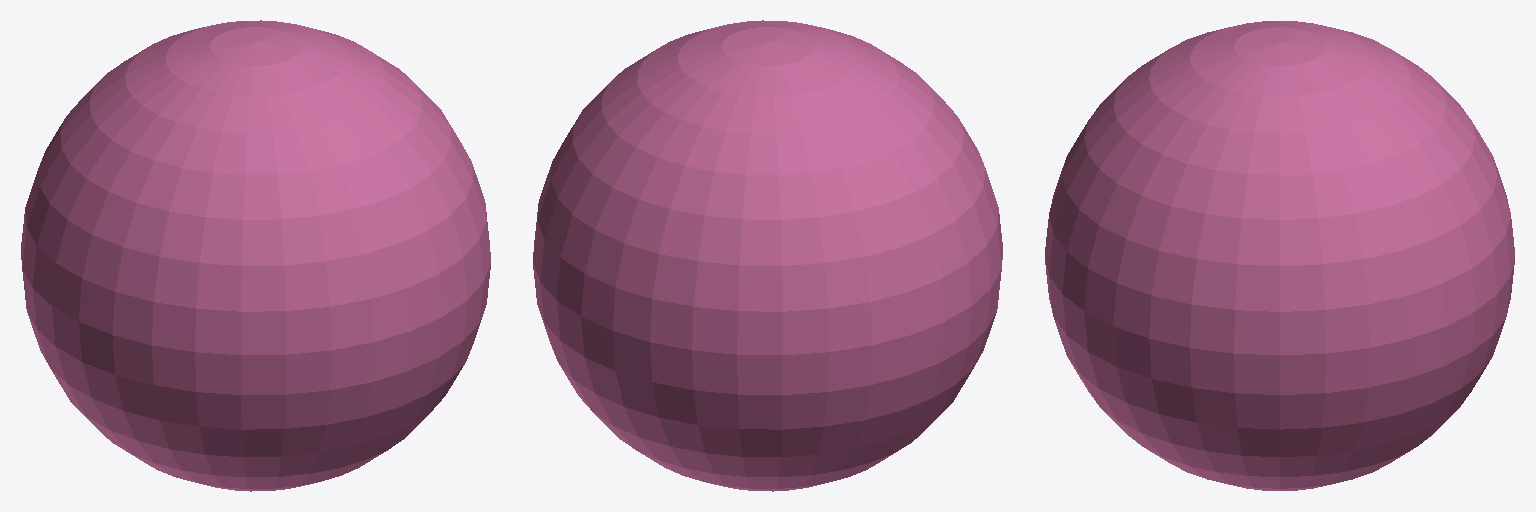
The robot description file, URDF, robot "indenter":
<robot name="indenter">

    <link name="base_link"/>
    <link name="translation_x"/>
    <link name="translation_y"/>
    <link name="translation_z"/>
    <link name="rotation_x"/>
    <link name="rotation_y"/>
    <joint name="x_joint" type="prismatic">
        <origin xyz="0 0 0" rpy="0 0 0"/>
        <parent link="base_link"/>
        <child link="translation_x"/>
        <axis xyz="1 0 0"/>
        <limit effort="12" lower="-1" upper="1" velocity="2.6100"/>
    </joint>

    <joint name="y_joint" type="prismatic">
        <origin xyz="0 0 0" rpy="0 0 0"/>
        <parent link="translation_x"/>
        <child link="translation_y"/>
        <axis xyz="0 1 0"/>
        <limit effort="12" lower="-1" upper="1" velocity="2.6100"/>
    </joint>

    <joint name="z_joint" type="prismatic">
        <origin xyz="0 0 0" rpy="0 0 0"/>
        <parent link="translation_y"/>
        <child link="translation_z"/>
        <axis xyz="0 0 1"/>
        <limit effort="12" lower="-1" upper="1" velocity="2.6100"/>
    </joint>
    <joint name="rx_joint" type="revolute">
        <origin xyz="0 0 0" rpy="0 0 0"/>
        <parent link="translation_z"/>
        <child link="rotation_x"/>
        <axis xyz="1 0 0"/>
        <limit effort="12" lower="-2.8973" upper="2.8973" velocity="2.6100"/>
    </joint>
    <joint name="ry_joint" type="revolute">
        <origin xyz="0 0 0" rpy="0 0 0"/>
        <parent link="rotation_x"/>
        <child link="rotation_y"/>
        <axis xyz="0 1 0"/>
        <limit effort="12" lower="-2.8973" upper="2.8973" velocity="2.6100"/>
    </joint>
    <joint name="rz_joint" type="revolute">
        <origin xyz="0 0 0" rpy="0 0 0"/>
        <parent link="rotation_y"/>
        <child link="indenter"/>
        <axis xyz="0 0 1"/>
        <limit effort="12" lower="-2.8973" upper="2.8973" velocity="2.6100"/>
    </joint>

	<link name="indenter">
		<visual>
			<origin rpy="0.0 0.0 0.0" xyz="0.0 0.0 0.01125"/>
			<geometry>
                <sphere radius="0.0081794"/>
			</geometry>
		</visual>
		<collision>
			<origin rpy="0.0 0.0 0.0" xyz="0.0 0.0 0.01125"/>
			<geometry>
                <sphere radius="0.0081794"/>
			</geometry>
            <sdf resolution="256"/>
		</collision>
		<inertial>
			<origin rpy="0.0 0.0 0.0" xyz="0.0 0.0 0.0"/>
			<mass value="0.00327211"/>
			<inertia ixx="1.14764e-7" iyy="8.89985e-8" izz="1.14738e-7" ixy="0.0" ixz="-4.72875e-14" iyz="0.0"/>
		</inertial>
	</link>
</robot>

--- Facts derived from the render (not from the file) ---
Views: 3 orthographic renders of the robot side by side, from view 1: azimuth 30°, elevation 25°; view 2: azimuth 150°, elevation 25°; view 3: azimuth 270°, elevation 25°.
Model indenter with 7 links and 6 joints (3 revolute, 3 prismatic), rooted at base_link, posed every joint at zero.
Visible links, largest first — view 1: indenter; view 2: indenter; view 3: indenter.
Link boxes in pixels (box(x1,y1,x2,y2)): indenter: box(21, 20, 490, 491); indenter: box(533, 20, 1002, 491); indenter: box(1045, 21, 1514, 490).
Bounding box of the posed robot: 0.0164 × 0.0164 × 0.0164 m (x, y, z).
Geometry: primitives only (box / cylinder / sphere), no mesh files.